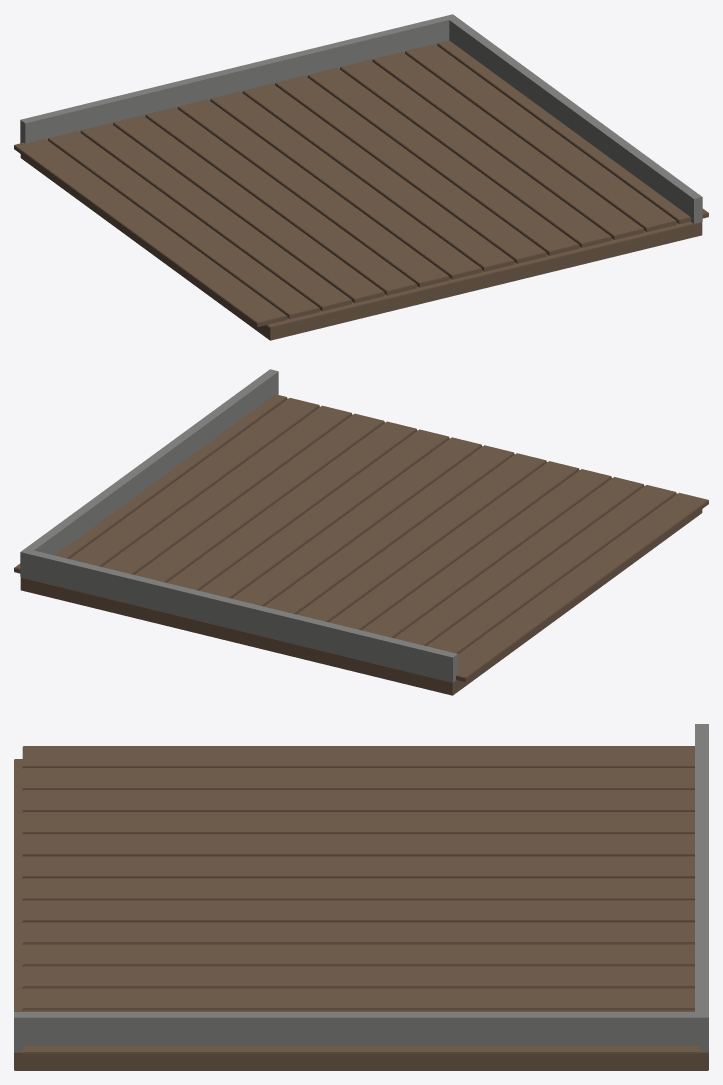
The model's file is roof_tile_planks.glb.
The picture shows the model from 3 angles, top to bottom: view 1: azimuth 30°, elevation 25°; view 2: azimuth 150°, elevation 25°; view 3: azimuth 270°, elevation 25°; orthographic projection. The views are drawn at different scales.
Visible parts, largest first — view 1: loose_mesh, tile_mesh, ok_mesh; view 2: loose_mesh, tile_mesh, ok_mesh; view 3: loose_mesh, tile_mesh, ok_mesh.
Part boxes in pixels (x1,y1,x2,y2): loose_mesh: [14, 40, 708, 327]; tile_mesh: [20, 14, 702, 340]; ok_mesh: [210, 91, 481, 279]; loose_mesh: [14, 394, 708, 682]; tile_mesh: [20, 369, 702, 695]; ok_mesh: [264, 445, 514, 614]; loose_mesh: [22, 746, 700, 1058]; tile_mesh: [14, 724, 708, 1070]; ok_mesh: [22, 878, 694, 900].
Size of what is drawn, in the model's own units: 4.18 by 0.34 by 4.
